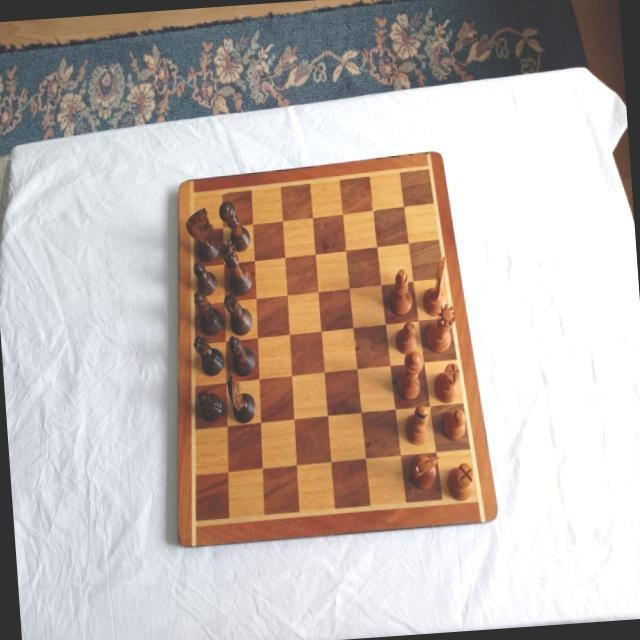black-bishop: (192, 288, 223, 335), (228, 333, 256, 375)
black-king: (217, 199, 251, 253)
black-knight: (184, 206, 220, 262), (224, 372, 255, 424)
black-pawn: (192, 259, 216, 297), (196, 389, 222, 423)
black-queen: (219, 236, 253, 296)
black-rook: (192, 333, 224, 377), (223, 291, 253, 336)
white-bishop: (386, 267, 412, 316), (403, 403, 429, 445)
white-king: (394, 349, 425, 399)
white-knight: (418, 255, 450, 317), (409, 453, 441, 491)
white-pawn: (440, 407, 467, 441), (394, 321, 418, 355)
white-queen: (422, 302, 457, 352)
white-rook: (430, 362, 461, 404), (445, 461, 475, 501)
